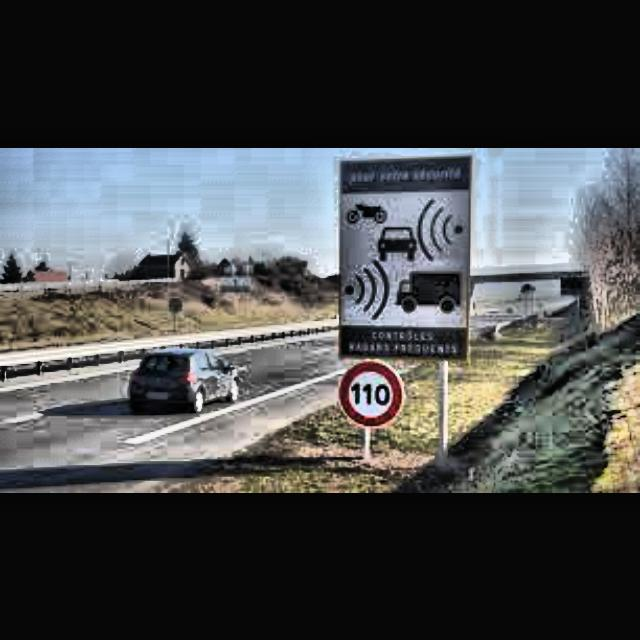speed_110: (337, 359, 405, 427)
